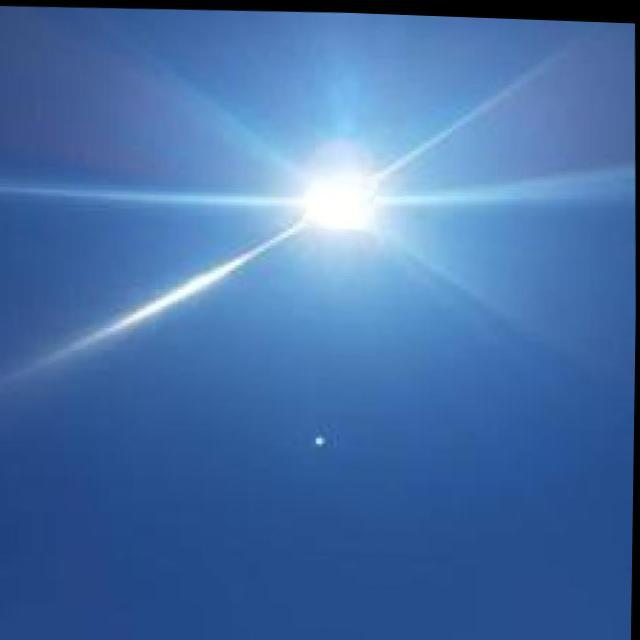sun: (305, 175, 375, 226)
